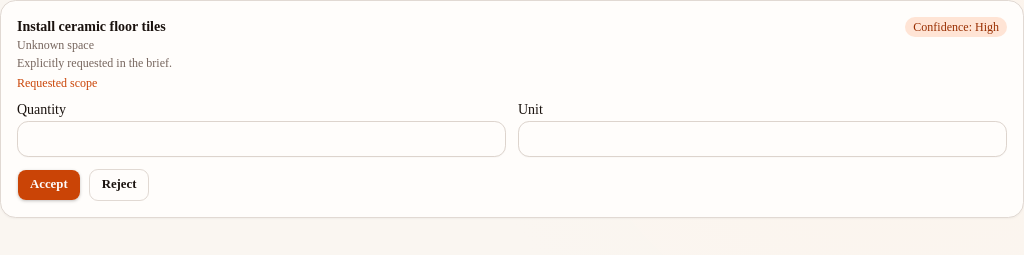
WorkItemSuggestionCard › requires quantity and unit before accept is allowed
Click the button "Accept" at (49, 185), box [17,169,81,201]
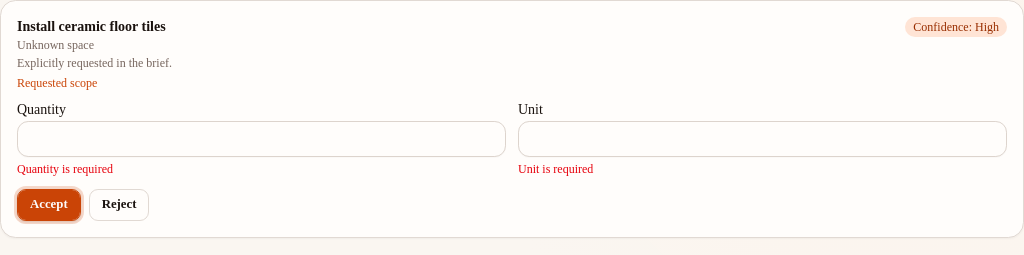
Result: the text "Quantity is required" is shown at [17,162,113,176]
